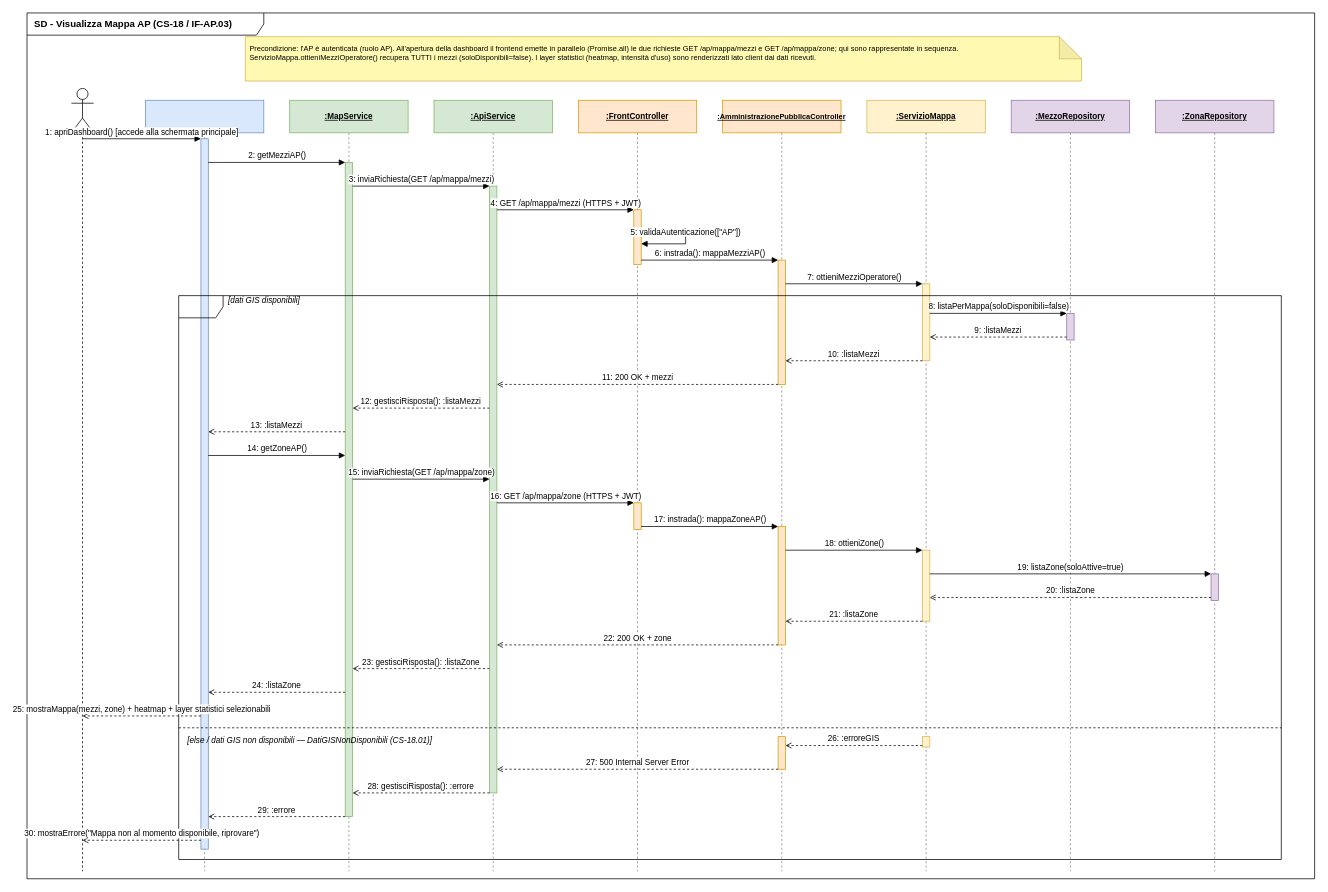
Some shapes in this 1328 by 892 pixel diagram are drawn without their labels. The box of each missing label's shape, as (x1, y1, x2, y2) in pixels:
:AmministrazionePubblica: (71, 88, 94, 133)
:VistaDashboardAP: (145, 100, 264, 133)
alt: (178, 295, 1281, 860)
